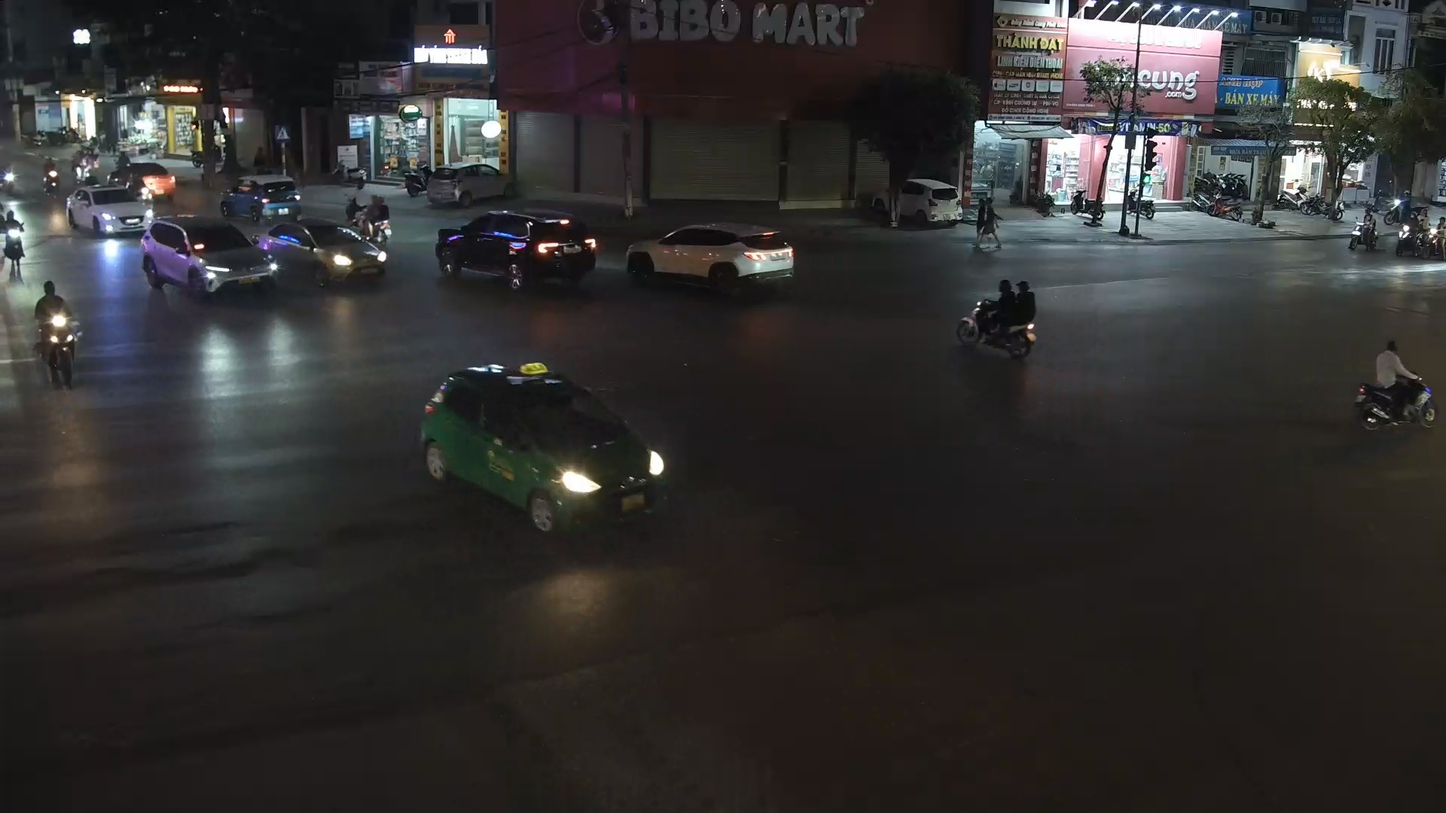car: (419, 360, 666, 532), (437, 205, 600, 290), (624, 224, 798, 295), (140, 212, 280, 298), (260, 214, 388, 290), (67, 179, 154, 237), (220, 172, 304, 228)
motorbike: (1352, 336, 1438, 435), (954, 275, 1041, 361), (31, 279, 83, 388), (0, 218, 28, 285), (973, 218, 1002, 255)
